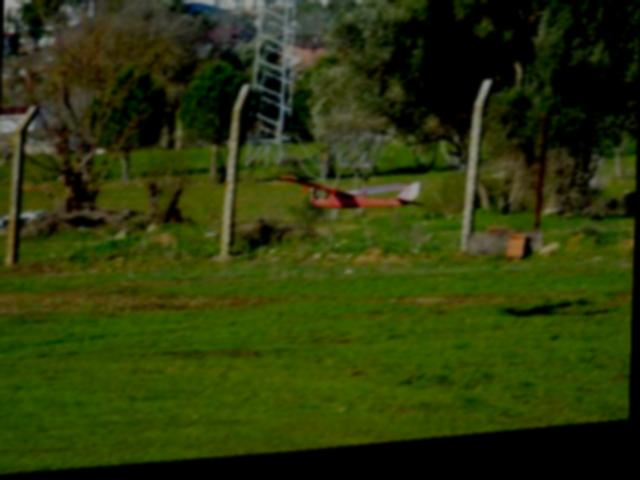iha: (287, 169, 424, 225)
